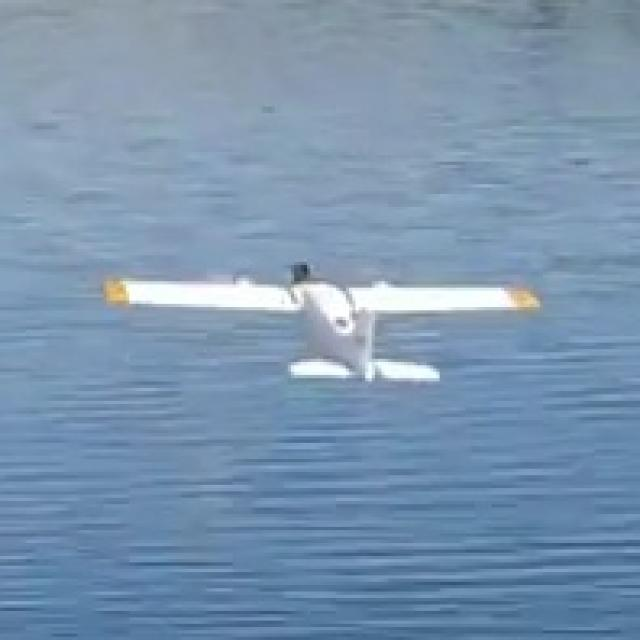iha: (100, 257, 546, 389)
